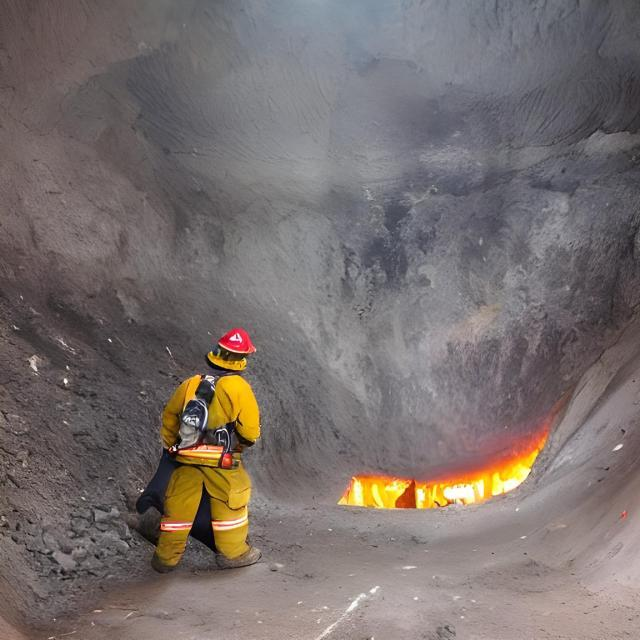Fire: (343, 432, 561, 512)
Smoke: (188, 42, 640, 370), (6, 16, 170, 290)
